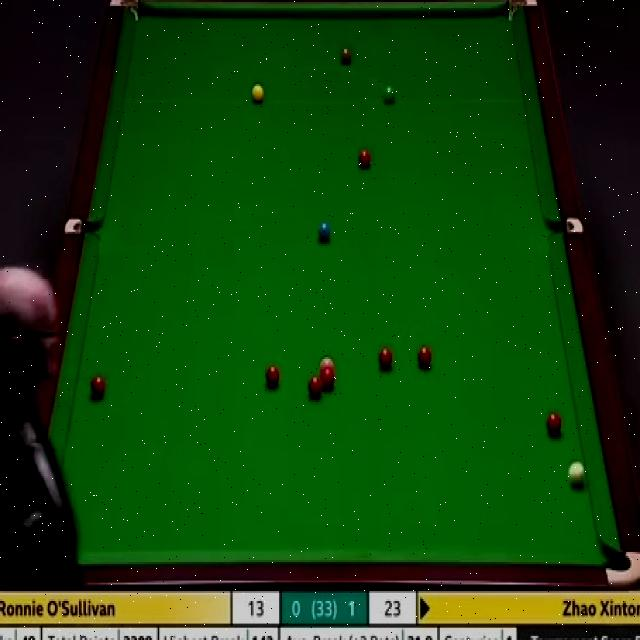blue-ball: (317, 220, 332, 242)
brown-ball: (339, 46, 352, 64)
green-ball: (382, 82, 396, 104)
pink-ball: (319, 356, 336, 374)
red-ball: (264, 364, 281, 389), (546, 412, 562, 436), (90, 374, 105, 398), (357, 146, 372, 169), (308, 377, 323, 399), (379, 346, 393, 368), (418, 346, 432, 368), (319, 372, 334, 388)
white-ball: (568, 459, 585, 487)
yellow-ball: (251, 82, 264, 102)
